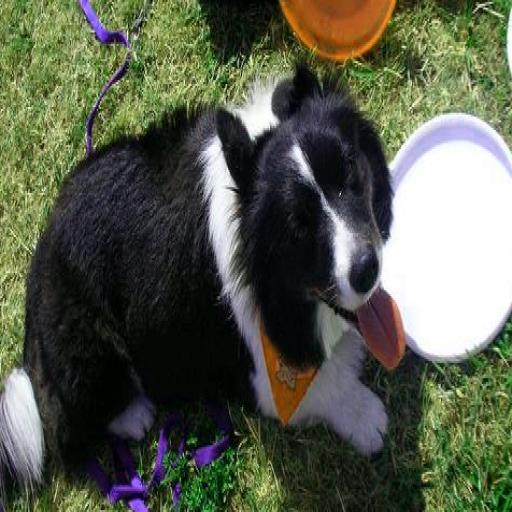dog_face: (206, 73, 426, 361)
